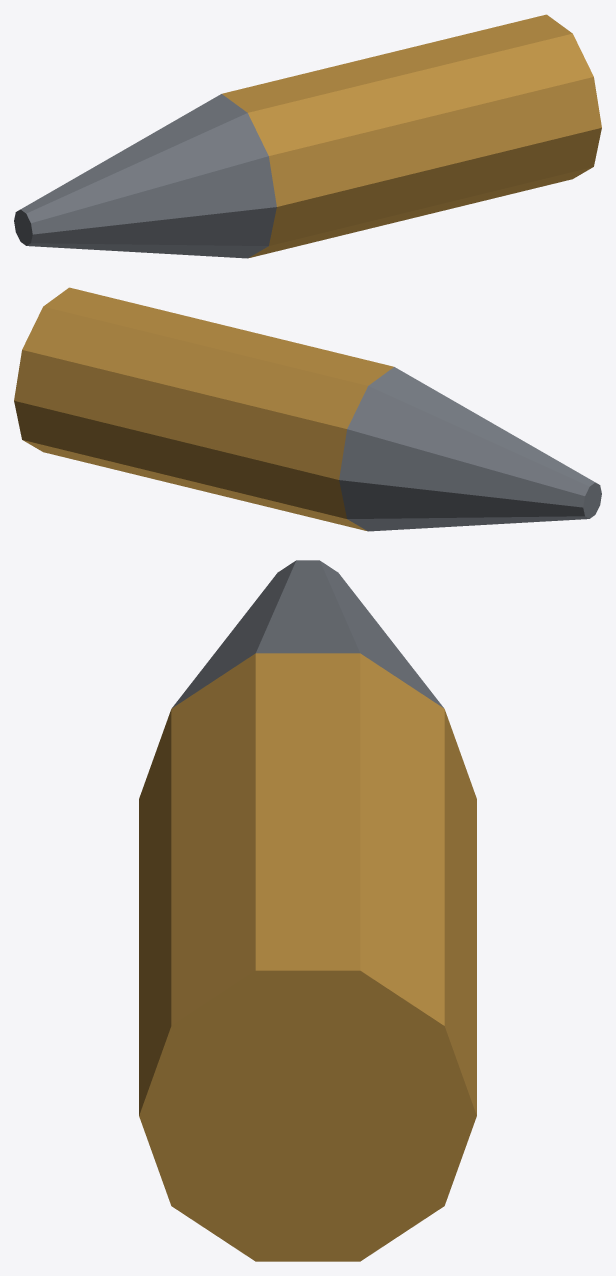
Rendered from B_338Lapua.obj.
3 views of the same model, one above another, from view 1: azimuth 30°, elevation 25°; view 2: azimuth 150°, elevation 25°; view 3: azimuth 270°, elevation 25° (orthographic). The views are drawn at different scales.
Visible parts, largest first — view 1: B_338Lapua_Body, B_338Lapua_Tip; view 2: B_338Lapua_Body, B_338Lapua_Tip; view 3: B_338Lapua_Body, B_338Lapua_Tip.
Boxes of the visible parts, x1=… form: B_338Lapua_Body: x1=222, y1=14, x2=601, y2=258; B_338Lapua_Tip: x1=14, y1=94, x2=276, y2=258; B_338Lapua_Body: x1=14, y1=287, x2=393, y2=531; B_338Lapua_Tip: x1=339, y1=367, x2=601, y2=531; B_338Lapua_Body: x1=139, y1=653, x2=476, y2=1261; B_338Lapua_Tip: x1=172, y1=560, x2=443, y2=707.
Size of the model in its own units: 0.066 by 0.0171 by 0.018.
